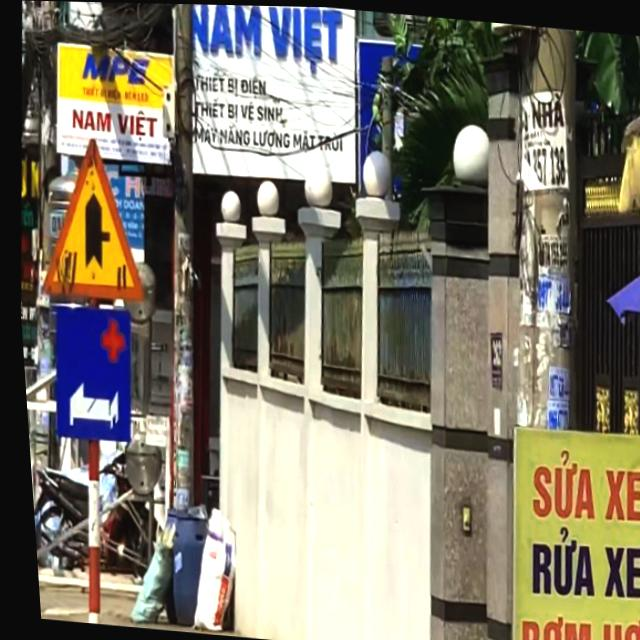Giao nhau voi duong khong uu tien ben phai: (28, 131, 152, 305)
